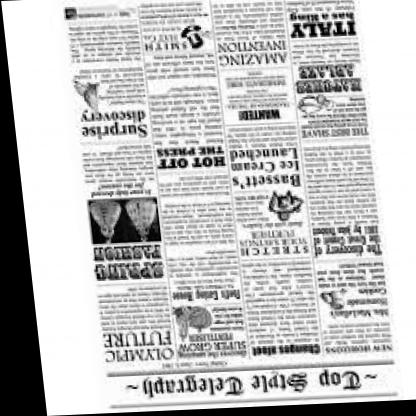Paper: (24, 0, 416, 406)
